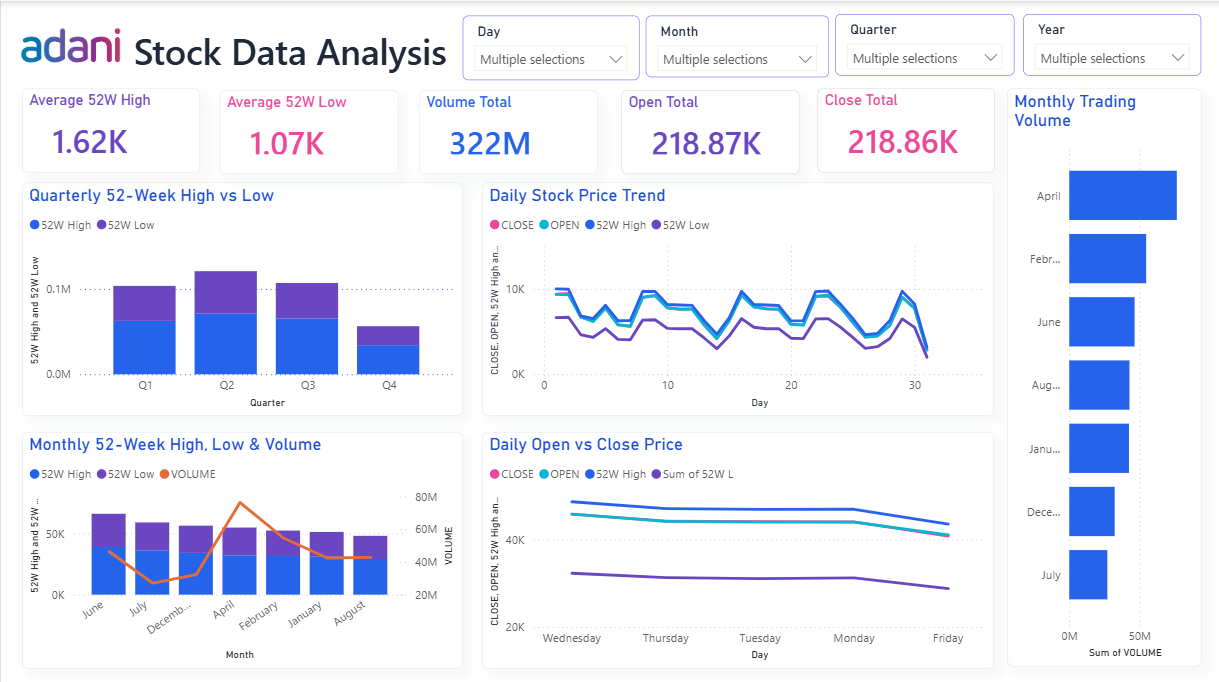

What the dashboard file says about the page in this screenshot:
{"tool":"powerbi","page":{"name":"Dashboard ","canvas":[1280,720],"ordinal":0},"visuals":[{"type":"image","box":[0,0,146.4,91.9],"z":0},{"type":"textbox","box":[134.5,22.1,371.1,69.8],"z":1000},{"type":"slicer","fields":{"Values":["Adani stock CSV 01.Day"]},"box":[485.1,15.3,185.5,68.1],"z":2000},{"type":"slicer","fields":{"Values":["Adani stock CSV 01.Year"]},"box":[1074.1,13.6,187.2,64.7],"z":3000},{"type":"slicer","fields":{"Values":["Adani stock CSV 01.Month"]},"box":[677.5,15.3,192.4,64.7],"z":4000},{"type":"slicer","fields":{"Values":["Adani stock CSV 01.Quarter"]},"box":[876.7,13.6,188,64.7],"z":5000},{"type":"cardVisual","title":"Average 52W High","fields":{"Data":["Avg(Adani stock CSV 01.52W H)"]},"box":[22.1,91.9,187.2,88.5],"z":6000},{"type":"cardVisual","title":"Average 52W Low","fields":{"Data":["Avg(Adani stock CSV 01.52W L)"]},"box":[229.7,93.2,187.9,88.3],"z":7000},{"type":"cardVisual","title":"Close Total","fields":{"Data":["Sum(Adani stock CSV 01.CLOSE)"]},"box":[857.8,91.6,186.3,88.3],"z":8000},{"type":"cardVisual","title":"Open Total","fields":{"Data":["Sum(Adani stock CSV 01.OPEN)"]},"box":[652,93.6,187.2,88.5],"z":9000},{"type":"cardVisual","title":"Volume Total","fields":{"Data":["Sum(Adani stock CSV 01.VOLUME)"]},"box":[438.5,93.2,187.9,88.3],"z":10000},{"type":"columnChart","title":"Quarterly 52-Week High vs Low","fields":{"Y":["Sum(Adani stock CSV 01.52W H)","Sum(Adani stock CSV 01.52W L)"],"Category":["Adani stock CSV 01.Quarter"]},"box":[22.1,190.7,463,245.1],"z":11000},{"type":"lineStackedColumnComboChart","title":"Monthly 52-Week High, Low & Volume","fields":{"Y":["Sum(Adani stock CSV 01.52W H)","Sum(Adani stock CSV 01.52W L)"],"Category":["Adani stock CSV 01.Month"],"Y2":["Sum(Adani stock CSV 01.VOLUME)"]},"box":[22.1,452.8,463,248.5],"z":12000},{"type":"lineChart","title":"Daily Open vs Close Price","fields":{"Y":["Sum(Adani stock CSV 01.CLOSE)","Sum(Adani stock CSV 01.OPEN)","Sum(Adani stock CSV 01.52W H)","Sum(Adani stock CSV 01.52W L)"],"Category":["Adani stock CSV 01.Day"]},"box":[505.6,452.8,537.9,248.5],"z":13000},{"type":"lineChart","title":"Daily Stock Price Trend","fields":{"Y":["Sum(Adani stock CSV 01.CLOSE)","Sum(Adani stock CSV 01.OPEN)","Sum(Adani stock CSV 01.52W H)","Sum(Adani stock CSV 01.52W L)"],"Category":["Adani stock CSV 01.DATE.Variation.Date Hierarchy.Day"]},"box":[505.6,190.7,537.9,245.1],"z":14000},{"type":"barChart","title":"Monthly Trading Volume","fields":{"Category":["Adani stock CSV 01.Month"],"Y":["Sum(Adani stock CSV 01.VOLUME)"]},"box":[1057.1,91.9,204.3,607.7],"z":15000}]}

Visuals, with their boxes in screenshot pixels (x1, y1, x2, y2), scaled from the page's 1280x720 canvas onto the 1219x682 screenshot:
image: region(0, 0, 139, 87)
textbox: region(128, 21, 482, 87)
slicer - Adani stock CSV 01.Day: region(462, 14, 639, 79)
slicer - Adani stock CSV 01.Year: region(1023, 13, 1201, 74)
slicer - Adani stock CSV 01.Month: region(645, 14, 828, 76)
slicer - Adani stock CSV 01.Quarter: region(835, 13, 1014, 74)
"Average 52W High" cardVisual: region(21, 87, 199, 171)
"Average 52W Low" cardVisual: region(219, 88, 398, 172)
"Close Total" cardVisual: region(817, 87, 994, 170)
"Open Total" cardVisual: region(621, 89, 799, 172)
"Volume Total" cardVisual: region(418, 88, 597, 172)
"Quarterly 52-Week High vs Low" columnChart: region(21, 181, 462, 413)
"Monthly 52-Week High, Low & Volume" lineStackedColumnComboChart: region(21, 429, 462, 664)
"Daily Open vs Close Price" lineChart: region(482, 429, 994, 664)
"Daily Stock Price Trend" lineChart: region(482, 181, 994, 413)
"Monthly Trading Volume" barChart: region(1007, 87, 1201, 663)
